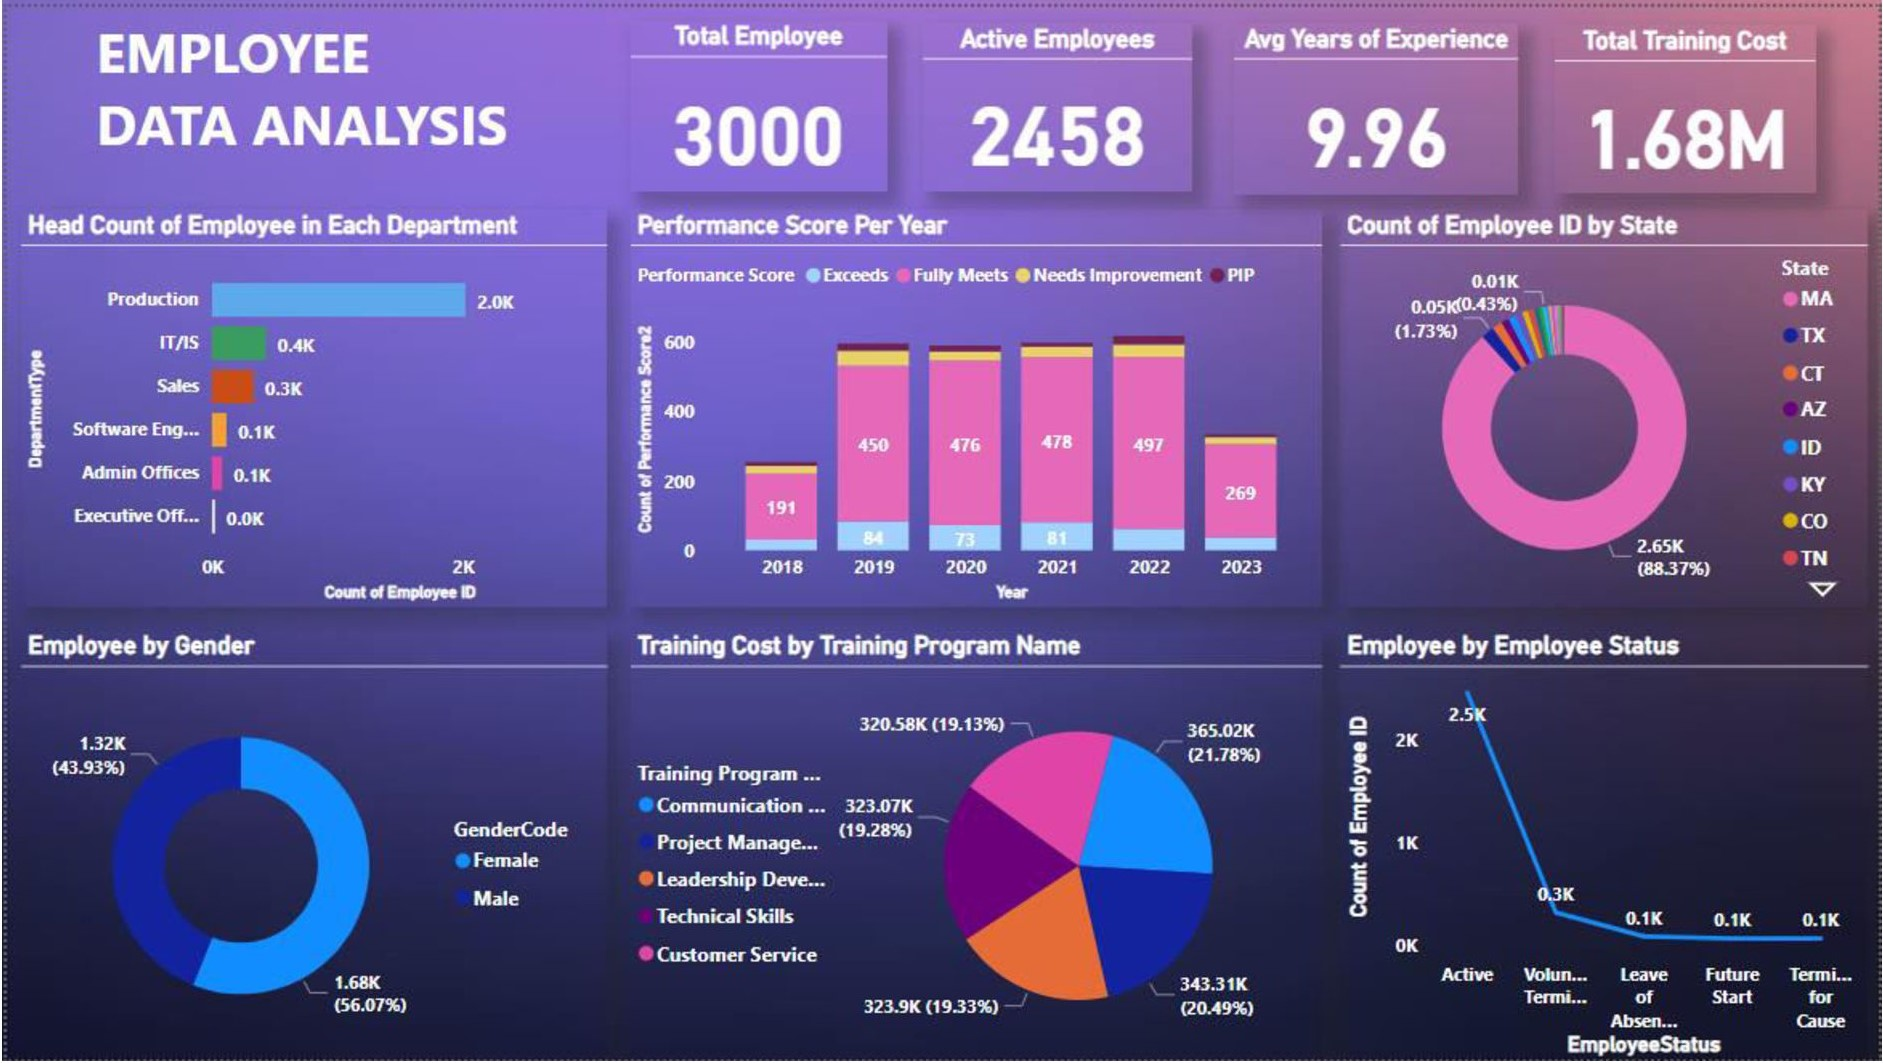

What the dashboard file says about the page in this screenshot:
{"tool":"powerbi","page":{"name":"Page 1","canvas":[1280,720],"ordinal":0},"visuals":[{"type":"barChart","title":"Head Count of Employee in Each Department","fields":{"Category":["employee_data xlsx.DepartmentType"],"Y":["CountNonNull(employee_data xlsx.Employee ID)"]},"box":[9.8,138.1,401,271.4],"z":0},{"type":"columnChart","title":" Performance Score Per Year ","fields":{"Y":["CountNonNull(employee_data xlsx.Performance Score2)"],"Category":["employee_data xlsx.StartDate.Variation.Date Hierarchy.Year"],"Series":["employee_data xlsx.Performance Score"]},"box":[426.6,138.1,473.1,271.4],"z":1000},{"type":"donutChart","fields":{"Category":["employee_data xlsx.State"],"Y":["CountNonNull(employee_data xlsx.Employee ID)"]},"box":[910.7,138.1,360.6,271.4],"z":2000},{"type":"pieChart","title":"Training Cost by Training Program Name","fields":{"Category":["training_and_development_data.Training Program Name"],"Y":["Sum(training_and_development_data.Training Cost)"]},"box":[426.6,425.4,473.1,294.6],"z":3000},{"type":"textbox","box":[56.2,0,475.8,117.9],"z":4000},{"type":"donutChart","title":"Employee by Gender","fields":{"Y":["CountNonNull(employee_data xlsx.Employee ID)"],"Category":["employee_data xlsx.GenderCode"]},"box":[9.8,425.4,401,294.6],"z":5000},{"type":"card","title":"Total Employee","fields":{"Values":["CountNonNull(employee_data xlsx.Employee ID)"]},"box":[426.4,9.6,175.5,116.5],"z":6000},{"type":"lineChart","title":"Employee by Employee Status","fields":{"Y":["CountNonNull(employee_data xlsx.Employee ID)"],"Category":["employee_data xlsx.EmployeeStatus"]},"box":[910.7,425.4,360.6,294.6],"z":7000},{"type":"card","title":"Total Training Cost","fields":{"Values":["Sum(training_and_development_data.Training Cost)"]},"box":[1057.1,12.3,178.2,115.2],"z":8000},{"type":"card","title":"Active Employees","fields":{"Values":["employee_data xlsx.Measure 3"]},"box":[626.6,11,183.7,115.2],"z":8001},{"type":"card","title":"Avg Years of Experience","fields":{"Values":["Avg(recruitment_data.Years of Experience)"]},"box":[837.7,11,194.7,116.5],"z":8002}]}

Visuals, with their boxes in screenshot pixels (x1, y1, x2, y2), scaled from the page's 1280x720 canvas onto the 1883x1063 screenshot:
"Head Count of Employee in Each Department" barChart: [14,204,604,605]
" Performance Score Per Year " columnChart: [628,204,1324,605]
donutChart - employee_data xlsx.State x CountNonNull(employee_data xlsx.Employee ID): [1340,204,1870,605]
"Training Cost by Training Program Name" pieChart: [628,628,1324,1062]
textbox: [83,0,783,174]
"Employee by Gender" donutChart: [14,628,604,1062]
"Total Employee" card: [627,14,885,186]
"Employee by Employee Status" lineChart: [1340,628,1870,1062]
"Total Training Cost" card: [1555,18,1817,188]
"Active Employees" card: [922,16,1192,186]
"Avg Years of Experience" card: [1232,16,1519,188]
